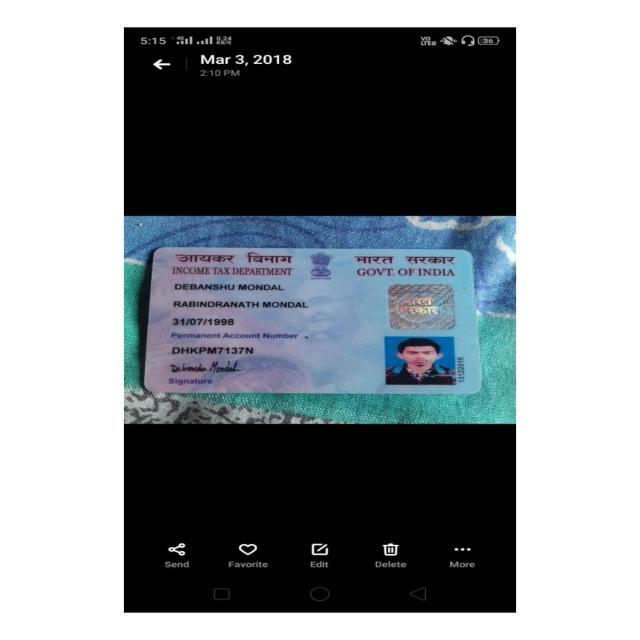pan_card: (147, 245, 476, 390)
